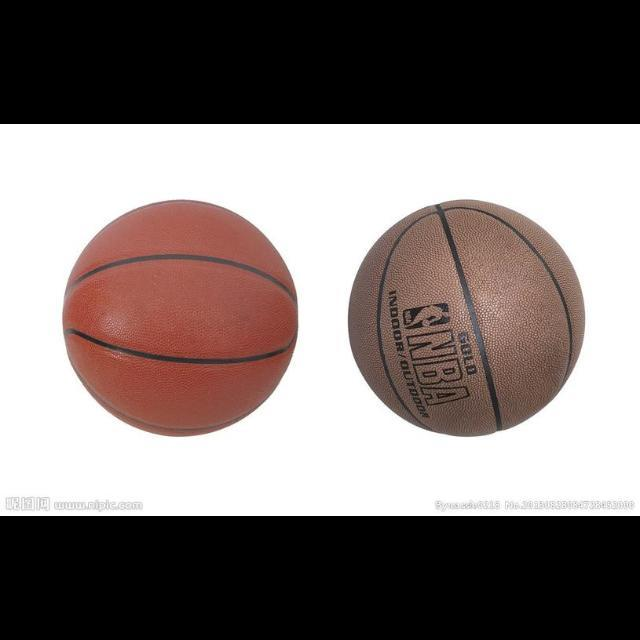basketball: (349, 200, 585, 436), (62, 200, 296, 436)
